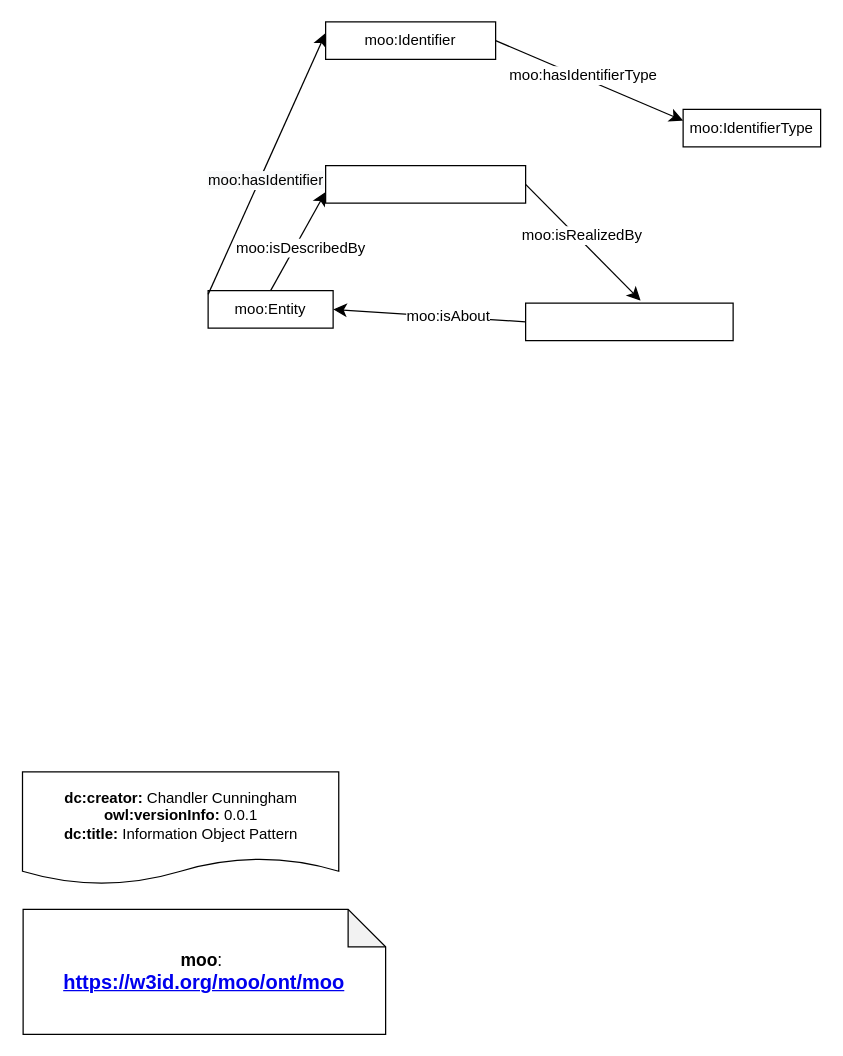
This 843x1056 diagram has some shape labels left out. Each missing label, with the centre of its shape:
moo:InformationObject: (425,183)
moo:InformationRealization: (628,321)
